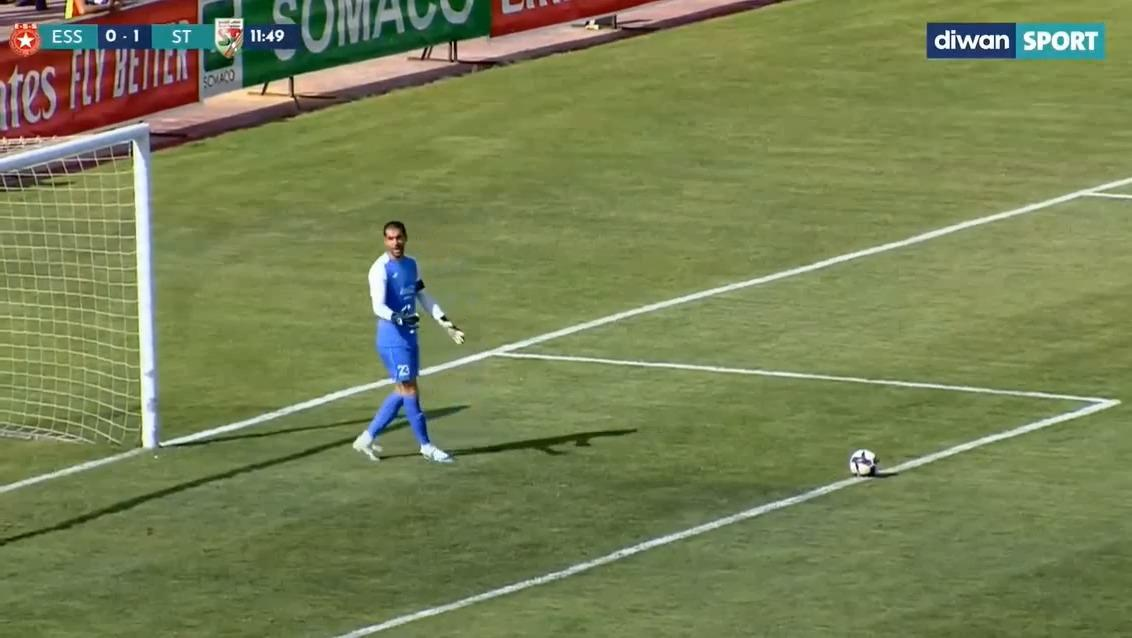ball: (848, 444, 880, 486)
goalkeeper: (342, 213, 479, 478)
